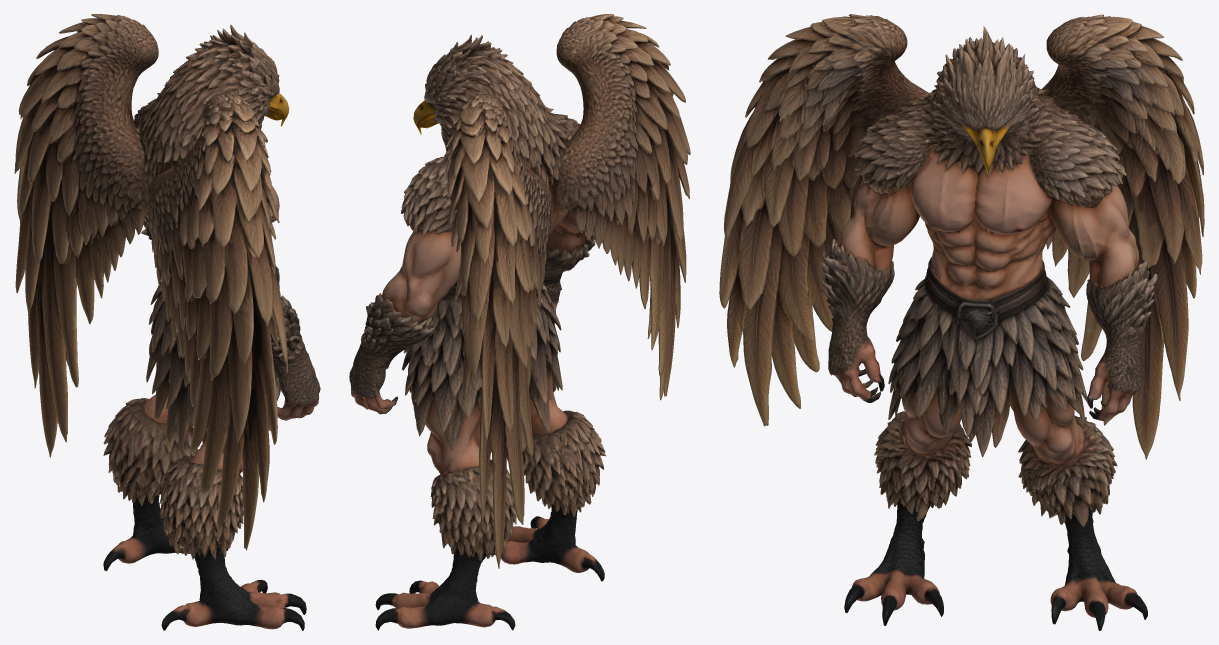
File: main.glb
The picture shows the model from 3 angles, left to right: view 1: azimuth 30°, elevation 25°; view 2: azimuth 150°, elevation 25°; view 3: azimuth 270°, elevation 25°; orthographic projection. The views are drawn at different scales.
Visible parts, largest first — view 1: tripo_node_0d208979-1af7-46b2-bb43-df047b28a2f9_0; view 2: tripo_node_0d208979-1af7-46b2-bb43-df047b28a2f9_0; view 3: tripo_node_0d208979-1af7-46b2-bb43-df047b28a2f9_0.
Boxes of the visible parts, box(x1,y1,x2,y2) form: tripo_node_0d208979-1af7-46b2-bb43-df047b28a2f9_0: box(14, 14, 320, 630); tripo_node_0d208979-1af7-46b2-bb43-df047b28a2f9_0: box(349, 14, 690, 630); tripo_node_0d208979-1af7-46b2-bb43-df047b28a2f9_0: box(719, 14, 1204, 630).
Size of the model in its own units: 0.3591 by 1 by 0.7542.
1 material, 1 textured.
